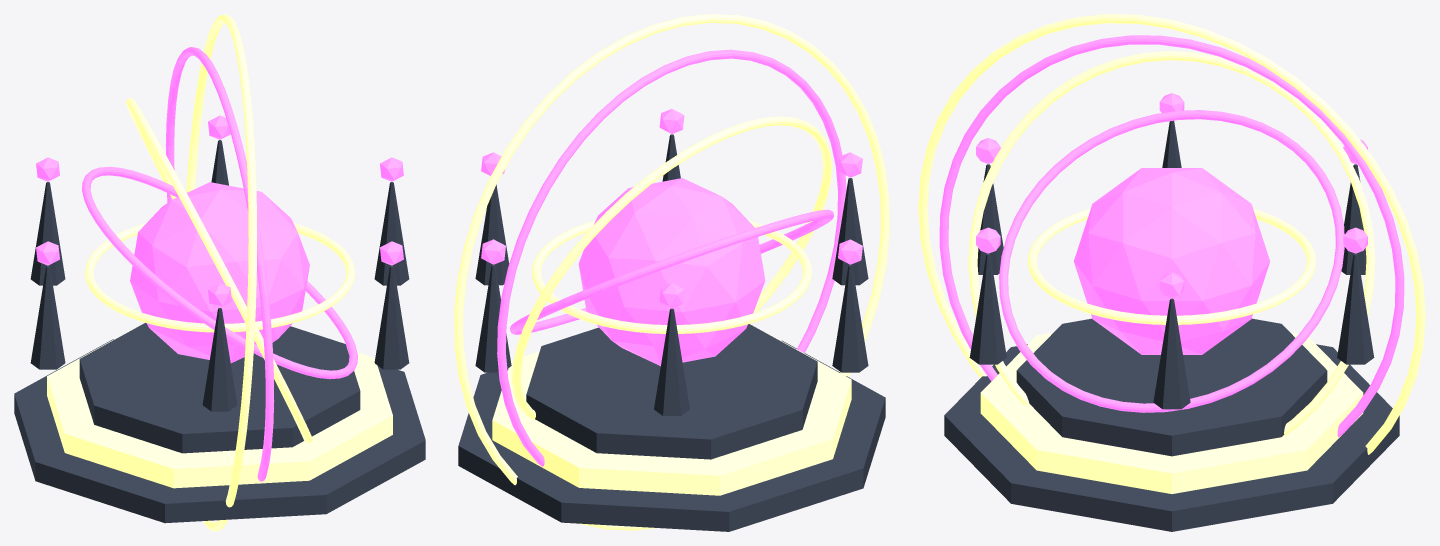
Rendered from gpu-blender-v11.glb.
3 renders of one model, left to right at view 1: azimuth 30°, elevation 25°; view 2: azimuth 150°, elevation 25°; view 3: azimuth 270°, elevation 25°, orthographic. The views are drawn at different scales.
Parts seen in each view (by area): view 1: Cylinder.002, Cylinder, SovereignCore_agent-prompt-firewall, Cylinder.001, Torus.004, Torus.003, Torus.001, Torus, Torus.002, Cone.004, Cone.003, Cone.005 (+3 smaller); view 2: Cylinder.002, SovereignCore_agent-prompt-firewall, Cylinder, Cylinder.001, Torus.004, Torus.003, Torus.002, Torus.001, Torus, Cone.003, Cone.002, Cone.001 (+2 smaller); view 3: SovereignCore_agent-prompt-firewall, Cylinder.002, Cylinder, Cylinder.001, Torus.004, Torus.001, Torus.003, Torus.002, Torus, Cone, Cone.001, Cone.005 (+3 smaller).
Part boxes in pixels (x1,y1,x2,y2): Cylinder.002: [79, 323, 360, 453]; Cylinder: [14, 339, 425, 523]; SovereignCore_agent-prompt-firewall: [130, 182, 309, 363]; Cylinder.001: [47, 330, 392, 488]; Torus.004: [186, 14, 257, 531]; Torus.003: [165, 47, 274, 483]; Torus.001: [82, 166, 357, 379]; Torus: [85, 223, 354, 332]; Torus.002: [126, 98, 312, 442]; Cone.004: [202, 308, 237, 411]; Cone.003: [30, 266, 65, 369]; Cone.005: [374, 266, 409, 369]; Cylinder.002: [526, 324, 817, 459]; SovereignCore_agent-prompt-firewall: [578, 178, 765, 366]; Cylinder: [458, 340, 885, 531]; Cylinder.001: [492, 331, 851, 495]; Torus.004: [454, 14, 889, 530]; Torus.003: [497, 49, 846, 466]; Torus.002: [512, 116, 831, 419]; Torus.001: [510, 209, 833, 334]; Torus: [531, 220, 812, 333]; Cone.003: [832, 265, 868, 372]; Cone.002: [654, 308, 689, 415]; Cone.001: [475, 265, 511, 372]; SovereignCore_agent-prompt-firewall: [1073, 168, 1270, 354]; Cylinder.002: [1016, 318, 1327, 456]; Cylinder: [944, 344, 1399, 531]; Cylinder.001: [980, 332, 1363, 493]; Torus.004: [918, 14, 1425, 454]; Torus.001: [999, 110, 1344, 412]; Torus.003: [939, 35, 1404, 437]; Torus.002: [968, 51, 1375, 435]; Torus: [1027, 209, 1316, 324]; Cone: [1153, 298, 1190, 409]; Cone.001: [1337, 254, 1374, 364]; Cone.005: [969, 254, 1006, 364].
Bounding box in the file's own units: 4.41 × 5.33 × 4.9.
